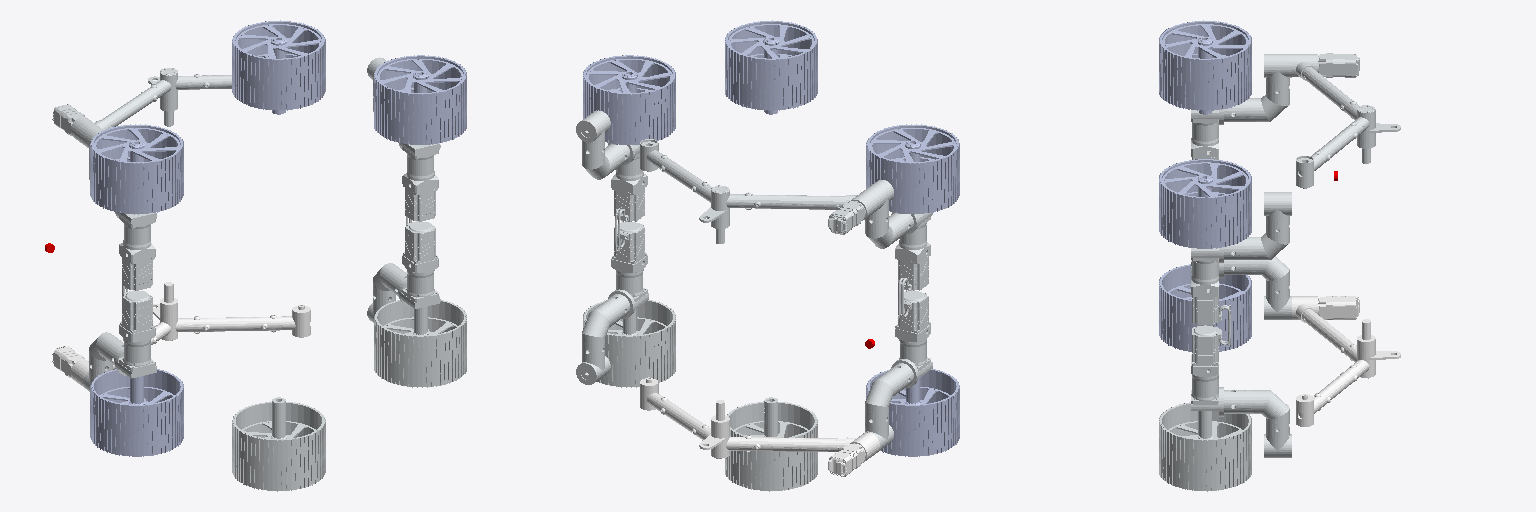
The robot description file, URDF, robot "ROVER 2025 MOVIL URDF":
<?xml version="1.0" encoding="utf-8"?>
<!-- This URDF was automatically created by SolidWorks to URDF Exporter! Originally created by [author] ([email redacted]) 
     Commit Version: 1.6.0-4-g7f85cfe  Build Version: 1.6.7995.38578
     For more information, please see http://wiki.ros.org/sw_urdf_exporter -->
<robot
  name="ROVER 2025 MOVIL URDF">
  <link
    name="Chasis">
    <inertial>
      <origin
        xyz="0.288438577723893 0.0109292123753549 6.7771748869416E-08"
        rpy="0 0 0" />
      <mass
        value="10" />
      <inertia
        ixx="0.0441193140560405"
        ixy="-2.21609953463795E-09"
        ixz="2.18954595758735E-08"
        iyy="0.0763142772480383"
        iyz="3.8337172520723E-09"
        izz="0.0335955150266498" />
    </inertial>
    <visual>
      <origin
        xyz="0 0 0"
        rpy="0 0 0" />
      <geometry>
        <mesh
          filename="package://ROVER 2025 MOVIL URDF/meshes/Chasis.STL" />
      </geometry>
      <material
        name="">
        <color
          rgba="0.752941176470588 0.752941176470588 0.752941176470588 1" />
      </material>
    </visual>
    <collision>
      <origin
        xyz="0 0 0"
        rpy="0 0 0" />
      <geometry>
        <mesh
          filename="package://ROVER 2025 MOVIL URDF/meshes/Chasis.STL" />
      </geometry>
    </collision>
  </link>
  <link
    name="Rocker_L">
    <inertial>
      <origin
        xyz="-0.016888 -0.050821 -0.015887"
        rpy="0 0 0" />
      <mass
        value="3.409" />
      <inertia
        ixx="0.0010374"
        ixy="-4.9666E-05"
        ixz="2.3834E-07"
        iyy="0.0013259"
        iyz="-2.2722E-06"
        izz="0.00088528" />
    </inertial>
    <visual>
      <origin
        xyz="0 0 0"
        rpy="0 0 0" />
      <geometry>
        <mesh
          filename="package://ROVER 2025 MOVIL URDF/meshes/Rocker_L.STL" />
      </geometry>
      <material
        name="">
        <color
          rgba="0.89804 0.91765 0.92941 1" />
      </material>
    </visual>
    <collision>
      <origin
        xyz="0 0 0"
        rpy="0 0 0" />
      <geometry>
        <mesh
          filename="package://ROVER 2025 MOVIL URDF/meshes/Rocker_L.STL" />
      </geometry>
    </collision>
  </link>
  <joint
    name="Joint_Rocker_L"
    type="revolute">
    <origin
      xyz="0.32185 0 0.2909"
      rpy="0 0 0" />
    <parent
      link="Chasis" />
    <child
      link="Rocker_L" />
    <axis
      xyz="0 0 1" />
    <limit
      lower="-0.5236"
      upper="0.5236"
      effort="0"
      velocity="0" />
    <dynamics
      damping="0.1"
      friction="0.1" />
  </joint>
  <link
    name="Bogie_L">
    <inertial>
      <origin
        xyz="-0.0473219934702857 -0.10000232458926 -0.0634980458171141"
        rpy="0 0 0" />
      <mass
        value="4.959" />
      <inertia
        ixx="0.000564122632607546"
        ixy="-8.72861092983669E-05"
        ixz="3.68546006648273E-05"
        iyy="0.000590209221392833"
        iyz="3.87241365468746E-06"
        izz="0.000709623220393141" />
    </inertial>
    <visual>
      <origin
        xyz="0 0 0"
        rpy="0 0 0" />
      <geometry>
        <mesh
          filename="package://ROVER 2025 MOVIL URDF/meshes/Bogie_L.STL" />
      </geometry>
      <material
        name="">
        <color
          rgba="0.792156862745098 0.819607843137255 0.933333333333333 1" />
      </material>
    </visual>
    <collision>
      <origin
        xyz="0 0 0"
        rpy="0 0 0" />
      <geometry>
        <mesh
          filename="package://ROVER 2025 MOVIL URDF/meshes/Bogie_L.STL" />
      </geometry>
    </collision>
  </link>
  <joint
    name="Joint_Bogie_L"
    type="revolute">
    <origin
      xyz="0.25166 -0.13101 0.065599"
      rpy="0 0 0" />
    <parent
      link="Rocker_L" />
    <child
      link="Bogie_L" />
    <axis
      xyz="0 0 1" />
    <limit
      lower="-0.5236"
      upper="0.5236"
      effort="0"
      velocity="0" />
    <dynamics
      damping="0.1"
      friction="0.1" />
  </joint>
  <link
    name="Rueda_Media_L">
    <inertial>
      <origin
        xyz="-1.41782538607416E-05 -5.28983833586461E-06 -0.0656774133963889"
        rpy="0 0 0" />
      <mass
        value="1.5" />
      <inertia
        ixx="0.00509456161848143"
        ixy="6.65100010201582E-08"
        ixz="2.22253980665638E-07"
        iyy="0.00509467286171472"
        iyz="5.23246354634947E-07"
        izz="0.00784566878914298" />
    </inertial>
    <visual>
      <origin
        xyz="0 0 0"
        rpy="0 0 0" />
      <geometry>
        <mesh
          filename="package://ROVER 2025 MOVIL URDF/meshes/Rueda_Media_L.STL" />
      </geometry>
      <material
        name="">
        <color
          rgba="0.792156862745098 0.819607843137255 0.933333333333333 1" />
      </material>
    </visual>
    <collision>
      <origin
        xyz="0 0 0"
        rpy="0 0 0" />
      <geometry>
        <mesh
          filename="package://ROVER 2025 MOVIL URDF/meshes/Rueda_Media_L.STL" />
      </geometry>
    </collision>
  </link>
  <joint
    name="Joint_Rueda_Media_L"
    type="continuous">
    <origin
      xyz="-0.17873 -0.213 0.1555"
      rpy="0 0 0" />
    <parent
      link="Bogie_L" />
    <child
      link="Rueda_Media_L" />
    <axis
      xyz="0 0 1" />
    <limit
      effort="20"
      velocity="1000" />
    <dynamics
      damping="0.1"
      friction="0.1" />
  </joint>
  <link
    name="Direccion_Trasera_L">
    <inertial>
      <origin
        xyz="-1.04384994870088E-06 -0.115237388246396 -0.11321511890596"
        rpy="0 0 0" />
      <mass
        value="3.25" />
      <inertia
        ixx="0.00140891940377472"
        ixy="3.16261705418916E-07"
        ixz="4.68544041473696E-08"
        iyy="0.000853513556309629"
        iyz="-0.000164942063511229"
        izz="0.00121518305852113" />
    </inertial>
    <visual>
      <origin
        xyz="0 0 0"
        rpy="0 0 0" />
      <geometry>
        <mesh
          filename="package://ROVER 2025 MOVIL URDF/meshes/Direccion_Trasera_L.STL" />
      </geometry>
      <material
        name="">
        <color
          rgba="0.898039215686275 0.917647058823529 0.929411764705882 1" />
      </material>
    </visual>
    <collision>
      <origin
        xyz="0 0 0"
        rpy="0 0 0" />
      <geometry>
        <mesh
          filename="package://ROVER 2025 MOVIL URDF/meshes/Direccion_Trasera_L.STL" />
      </geometry>
    </collision>
  </link>
  <joint
    name="Joint_Direccion_Trasera_L"
    type="revolute">
    <origin
      xyz="0.17127 -0.0315 -0.070565"
      rpy="0 0 0" />
    <parent
      link="Bogie_L" />
    <child
      link="Direccion_Trasera_L" />
    <axis
      xyz="0 1 0" />
    <limit
      lower="-1.5708"
      upper="1.5708"
      effort="10"
      velocity="1000" />
    <dynamics
      damping="0.1"
      friction="0.1" />
  </joint>
  <link
    name="Rueda_Trasera_L">
    <inertial>
      <origin
        xyz="-7.46093003556325E-06 -1.31658571650428E-05 -0.0656774133963628"
        rpy="0 0 0" />
      <mass
        value="1.5" />
      <inertia
        ixx="0.00509454208194118"
        ixy="-4.32272588143068E-08"
        ixz="-1.6607984674026E-07"
        iyy="0.00509469239825523"
        iyz="5.43692067157363E-07"
        izz="0.00784566878914282" />
    </inertial>
    <visual>
      <origin
        xyz="0 0 0"
        rpy="0 0 0" />
      <geometry>
        <mesh
          filename="package://ROVER 2025 MOVIL URDF/meshes/Rueda_Trasera_L.STL" />
      </geometry>
      <material
        name="">
        <color
          rgba="0.792156862745098 0.819607843137255 0.933333333333333 1" />
      </material>
    </visual>
    <collision>
      <origin
        xyz="0 0 0"
        rpy="0 0 0" />
      <geometry>
        <mesh
          filename="package://ROVER 2025 MOVIL URDF/meshes/Rueda_Trasera_L.STL" />
      </geometry>
    </collision>
  </link>
  <joint
    name="Joint_Rueda_Trasera_L"
    type="continuous">
    <origin
      xyz="0 -0.1815 0.063"
      rpy="0 0 0" />
    <parent
      link="Direccion_Trasera_L" />
    <child
      link="Rueda_Trasera_L" />
    <axis
      xyz="0 0 1" />
    <limit
      effort="20"
      velocity="1000" />
    <dynamics
      damping="0.1"
      friction="0.1" />
  </joint>
  <link
    name="Direccion_Delantera_L">
    <inertial>
      <origin
        xyz="-1.04384994838169E-06 -0.115237388246396 -0.11321511890596"
        rpy="0 0 0" />
      <mass
        value="3.25" />
      <inertia
        ixx="0.00140891940377473"
        ixy="3.16261705418385E-07"
        ixz="4.68544041469804E-08"
        iyy="0.000853513556309632"
        iyz="-0.00016494206351123"
        izz="0.00121518305852114" />
    </inertial>
    <visual>
      <origin
        xyz="0 0 0"
        rpy="0 0 0" />
      <geometry>
        <mesh
          filename="package://ROVER 2025 MOVIL URDF/meshes/Direccion_Delantera_L.STL" />
      </geometry>
      <material
        name="">
        <color
          rgba="0.898039215686275 0.917647058823529 0.929411764705882 1" />
      </material>
    </visual>
    <collision>
      <origin
        xyz="0 0 0"
        rpy="0 0 0" />
      <geometry>
        <mesh
          filename="package://ROVER 2025 MOVIL URDF/meshes/Direccion_Delantera_L.STL" />
      </geometry>
    </collision>
  </link>
  <joint
    name="Joint_Direccion_Delantera_L"
    type="revolute">
    <origin
      xyz="-0.27706 -0.16251 -0.0049008"
      rpy="0 0 0" />
    <parent
      link="Rocker_L" />
    <child
      link="Direccion_Delantera_L" />
    <axis
      xyz="0 1 0" />
    <limit
      lower="-1.5708"
      upper="1.5708"
      effort="10"
      velocity="1000" />
    <dynamics
      damping="0.1"
      friction="0.1" />
  </joint>
  <link
    name="Rueda_Delantera_L">
    <inertial>
      <origin
        xyz="-7.46093003538978E-06 -1.31658571647097E-05 -0.0656774133963627"
        rpy="0 0 0" />
      <mass
        value="1.5" />
      <inertia
        ixx="0.00509454208194127"
        ixy="-4.32272588315615E-08"
        ixz="-1.66079846734122E-07"
        iyy="0.00509469239825524"
        iyz="5.43692067162731E-07"
        izz="0.00784566878914289" />
    </inertial>
    <visual>
      <origin
        xyz="0 0 0"
        rpy="0 0 0" />
      <geometry>
        <mesh
          filename="package://ROVER 2025 MOVIL URDF/meshes/Rueda_Delantera_L.STL" />
      </geometry>
      <material
        name="">
        <color
          rgba="0.792156862745098 0.819607843137255 0.933333333333333 1" />
      </material>
    </visual>
    <collision>
      <origin
        xyz="0 0 0"
        rpy="0 0 0" />
      <geometry>
        <mesh
          filename="package://ROVER 2025 MOVIL URDF/meshes/Rueda_Delantera_L.STL" />
      </geometry>
    </collision>
  </link>
  <joint
    name="Joint_Rueda_Delantera_L"
    type="continuous">
    <origin
      xyz="0 -0.1815 0.063"
      rpy="0 0 0" />
    <parent
      link="Direccion_Delantera_L" />
    <child
      link="Rueda_Delantera_L" />
    <axis
      xyz="0 0 1" />
    <limit
      lower="-1.5708"
      upper="1.5708"
      effort="20"
      velocity="1000" />
    <dynamics
      damping="0.1"
      friction="0.1" />
  </joint>
  <link
    name="Rocker_R">
    <inertial>
      <origin
        xyz="0 0 0"
        rpy="0 0 0" />
      <mass
        value="3.409" />
      <inertia
        ixx="0"
        ixy="0"
        ixz="0"
        iyy="0"
        iyz="0"
        izz="0" />
    </inertial>
    <visual>
      <origin
        xyz="0 0 0"
        rpy="0 0 0" />
      <geometry>
        <mesh
          filename="package://ROVER 2025 MOVIL URDF/meshes/Rocker_R.STL" />
      </geometry>
      <material
        name="">
        <color
          rgba="1 1 1 1" />
      </material>
    </visual>
    <collision>
      <origin
        xyz="0 0 0"
        rpy="0 0 0" />
      <geometry>
        <mesh
          filename="package://ROVER 2025 MOVIL URDF/meshes/Rocker_R.STL" />
      </geometry>
    </collision>
  </link>
  <joint
    name="Joint_Rocker_R"
    type="revolute">
    <origin
      xyz="0.32185 0 -0.2909"
      rpy="0 0 0" />
    <parent
      link="Chasis" />
    <child
      link="Rocker_R" />
    <axis
      xyz="0 0 1" />
    <limit
      lower="-0.5236"
      upper="0.5236"
      effort="0"
      velocity="0" />
    <dynamics
      damping="0.1"
      friction="0.1" />
  </joint>
  <link
    name="Bogie_R">
    <inertial>
      <origin
        xyz="-0.047765 -0.10063 0.064313"
        rpy="0 0 0" />
      <mass
        value="4.959" />
      <inertia
        ixx="0.0005334"
        ixy="-6.6107E-05"
        ixz="-3.4349E-05"
        iyy="0.00056043"
        iyz="-3.8724E-06"
        izz="0.00065556" />
    </inertial>
    <visual>
      <origin
        xyz="0 0 0"
        rpy="0 0 0" />
      <geometry>
        <mesh
          filename="package://ROVER 2025 MOVIL URDF/meshes/Bogie_R.STL" />
      </geometry>
      <material
        name="">
        <color
          rgba="0.79216 0.81961 0.93333 1" />
      </material>
    </visual>
    <collision>
      <origin
        xyz="0 0 0"
        rpy="0 0 0" />
      <geometry>
        <mesh
          filename="package://ROVER 2025 MOVIL URDF/meshes/Bogie_R.STL" />
      </geometry>
    </collision>
  </link>
  <joint
    name="Joint_Bogie_R"
    type="revolute">
    <origin
      xyz="0.25166 -0.13101 -0.065599"
      rpy="0 0 0" />
    <parent
      link="Rocker_R" />
    <child
      link="Bogie_R" />
    <axis
      xyz="0 0 1" />
    <limit
      lower="-0.5236"
      upper="0.5236"
      effort="0"
      velocity="0" />
    <dynamics
      damping="0.1"
      friction="0.1" />
  </joint>
  <link
    name="Rueda_Media_R">
    <inertial>
      <origin
        xyz="-1.41771139818281E-05 -5.29137608606955E-06 0.0656821054863143"
        rpy="0 0 0" />
      <mass
        value="1.5" />
      <inertia
        ixx="0.00509456185644659"
        ixy="6.64573397514058E-08"
        ixz="-2.22220630402095E-07"
        iyy="0.00509467313273941"
        iyz="-5.23321704678963E-07"
        izz="0.00784566880527025" />
    </inertial>
    <visual>
      <origin
        xyz="0 0 0"
        rpy="0 0 0" />
      <geometry>
        <mesh
          filename="package://ROVER 2025 MOVIL URDF/meshes/Rueda_Media_R.STL" />
      </geometry>
      <material
        name="">
        <color
          rgba="0.898039215686275 0.917647058823529 0.929411764705882 1" />
      </material>
    </visual>
    <collision>
      <origin
        xyz="0 0 0"
        rpy="0 0 0" />
      <geometry>
        <mesh
          filename="package://ROVER 2025 MOVIL URDF/meshes/Rueda_Media_R.STL" />
      </geometry>
    </collision>
  </link>
  <joint
    name="Joint_Rueda_Media_R"
    type="continuous">
    <origin
      xyz="-0.17873 -0.213 -0.1555"
      rpy="0 0 0" />
    <parent
      link="Bogie_R" />
    <child
      link="Rueda_Media_R" />
    <axis
      xyz="0 0 1" />
    <limit
      lower="0"
      upper="0"
      effort="20"
      velocity="1000" />
    <dynamics
      damping="0.1"
      friction="0.1" />
  </joint>
  <link
    name="Direccion_Trasera_R">
    <inertial>
      <origin
        xyz="-1.4183369628773E-06 -0.115237370236861 0.113215114964309"
        rpy="0 0 0" />
      <mass
        value="3.25" />
      <inertia
        ixx="0.00140891975002138"
        ixy="3.1699945700244E-07"
        ixz="-4.74293620196165E-08"
        iyy="0.000853514136619031"
        iyz="0.000164942038379824"
        izz="0.00121518320306354" />
    </inertial>
    <visual>
      <origin
        xyz="0 0 0"
        rpy="0 0 0" />
      <geometry>
        <mesh
          filename="package://ROVER 2025 MOVIL URDF/meshes/Direccion_Trasera_R.STL" />
      </geometry>
      <material
        name="">
        <color
          rgba="0.898039215686275 0.917647058823529 0.929411764705882 1" />
      </material>
    </visual>
    <collision>
      <origin
        xyz="0 0 0"
        rpy="0 0 0" />
      <geometry>
        <mesh
          filename="package://ROVER 2025 MOVIL URDF/meshes/Direccion_Trasera_R.STL" />
      </geometry>
    </collision>
  </link>
  <joint
    name="Joint_Direccion_Trasera_R"
    type="revolute">
    <origin
      xyz="0.17127 -0.0315 0.070565"
      rpy="0 0 0" />
    <parent
      link="Bogie_R" />
    <child
      link="Direccion_Trasera_R" />
    <axis
      xyz="0 1 0" />
    <limit
      lower="-1.5708"
      upper="1.5708"
      effort="10"
      velocity="1000" />
    <dynamics
      damping="0.1"
      friction="0.1" />
  </joint>
  <link
    name="Rueda_Trasera_R">
    <inertial>
      <origin
        xyz="-7.45906839494381E-06 -1.31663024416917E-05 0.0656821054862859"
        rpy="0 0 0" />
      <mass
        value="1.5" />
      <inertia
        ixx="0.00509454238542716"
        ixy="-4.32526822157421E-08"
        ixz="1.66153828608011E-07"
        iyy="0.00509469260375968"
        iyz="-5.43728351436261E-07"
        izz="0.00784566880527031" />
    </inertial>
    <visual>
      <origin
        xyz="0 0 0"
        rpy="0 0 0" />
      <geometry>
        <mesh
          filename="package://ROVER 2025 MOVIL URDF/meshes/Rueda_Trasera_R.STL" />
      </geometry>
      <material
        name="">
        <color
          rgba="0.898039215686275 0.917647058823529 0.929411764705882 1" />
      </material>
    </visual>
    <collision>
      <origin
        xyz="0 0 0"
        rpy="0 0 0" />
      <geometry>
        <mesh
          filename="package://ROVER 2025 MOVIL URDF/meshes/Rueda_Trasera_R.STL" />
      </geometry>
    </collision>
  </link>
  <joint
    name="Joint_Rueda_Trasera_R"
    type="continuous">
    <origin
      xyz="0 -0.1815 -0.063"
      rpy="0 0 0" />
    <parent
      link="Direccion_Trasera_R" />
    <child
      link="Rueda_Trasera_R" />
    <axis
      xyz="0 0 1" />
    <limit
      effort="20"
      velocity="1000" />
    <dynamics
      damping="0.1"
      friction="0.1" />
  </joint>
  <link
    name="Direccion_Delantera_R">
    <inertial>
      <origin
        xyz="-1.4183369623777E-06 -0.115237370236861 0.11321511496431"
        rpy="0 0 0" />
      <mass
        value="3.25" />
      <inertia
        ixx="0.00140891975002136"
        ixy="3.16999457002059E-07"
        ixz="-4.74293620188041E-08"
        iyy="0.000853514136619024"
        iyz="0.00016494203837982"
        izz="0.00121518320306352" />
    </inertial>
    <visual>
      <origin
        xyz="0 0 0"
        rpy="0 0 0" />
      <geometry>
        <mesh
          filename="package://ROVER 2025 MOVIL URDF/meshes/Direccion_Delantera_R.STL" />
      </geometry>
      <material
        name="">
        <color
          rgba="0.898039215686275 0.917647058823529 0.929411764705882 1" />
      </material>
    </visual>
    <collision>
      <origin
        xyz="0 0 0"
        rpy="0 0 0" />
      <geometry>
        <mesh
          filename="package://ROVER 2025 MOVIL URDF/meshes/Direccion_Delantera_R.STL" />
      </geometry>
    </collision>
  </link>
  <joint
    name="Joint_Direccion_Delantera_R"
    type="revolute">
    <origin
      xyz="-0.27706 -0.16251 0.0049008"
      rpy="0 0 0" />
    <parent
      link="Rocker_R" />
    <child
      link="Direccion_Delantera_R" />
    <axis
      xyz="0 1 0" />
    <limit
      lower="-1.5708"
      upper="1.5708"
      effort="10"
      velocity="1000" />
    <dynamics
      damping="0.1"
      friction="0.1" />
  </joint>
  <link
    name="Rueda_Delantera_R">
    <inertial>
      <origin
        xyz="-7.45906839449972E-06 -1.31663024435791E-05 0.0656821054862848"
        rpy="0 0 0" />
      <mass
        value="1.5" />
      <inertia
        ixx="0.00509454238542721"
        ixy="-4.32526822051539E-08"
        ixz="1.66153828614882E-07"
        iyy="0.00509469260375968"
        iyz="-5.43728351457097E-07"
        izz="0.00784566880527035" />
    </inertial>
    <visual>
      <origin
        xyz="0 0 0"
        rpy="0 0 0" />
      <geometry>
        <mesh
          filename="package://ROVER 2025 MOVIL URDF/meshes/Rueda_Delantera_R.STL" />
      </geometry>
      <material
        name="">
        <color
          rgba="0.792156862745098 0.819607843137255 0.933333333333333 1" />
      </material>
    </visual>
    <collision>
      <origin
        xyz="0 0 0"
        rpy="0 0 0" />
      <geometry>
        <mesh
          filename="package://ROVER 2025 MOVIL URDF/meshes/Rueda_Delantera_R.STL" />
      </geometry>
    </collision>
  </link>
  <joint
    name="Joint_Rueda_Delantera_R"
    type="continuous">
    <origin
      xyz="0 -0.1815 -0.063"
      rpy="0 0 0" />
    <parent
      link="Direccion_Delantera_R" />
    <child
      link="Rueda_Delantera_R" />
    <axis
      xyz="0 0 1" />
    <limit
      effort="20"
      velocity="1000" />
    <dynamics
      damping="0.1"
      friction="0.1" />
  </joint>
  
  <!-- Link del LIDAR -->
  <link name="lidar_link">
    <visual>
      <geometry>
        <cylinder radius="0.01" length="0.01"/>
      </geometry>
      <origin xyz="0 0 0" rpy="0 0 0"/>
      <material name="red">
        <color rgba="1 0 0 1"/>
      </material>
    </visual>
    <collision>
      <geometry>
        <cylinder radius="0.05" length="0.1"/>
      </geometry>
      <origin xyz="0 0 0" rpy="0 0 0"/>
    </collision>
    <inertial>
      <mass value="0.1"/>
      <inertia ixx="0.001" iyy="0.001" izz="0.001"/>
    </inertial>
  </link>

  <!-- Joint que conecta el LIDAR al chasis -->
  <joint name="lidar_joint" type="fixed">
    <parent link="Chasis"/>
    <child link="lidar_link"/>
    <origin xyz="-0.01 -0.065 0" rpy="1.5708 0 0"/> <!-- altura del LIDAR -->
  </joint>
</robot>

--- Render facts (derived) ---
The picture shows the robot from 3 angles, left to right: view 1: azimuth 30°, elevation 25°; view 2: azimuth 150°, elevation 25°; view 3: azimuth 270°, elevation 25°; orthographic projection.
Robot: ROVER 2025 MOVIL URDF — 16 links, 15 joints (8 revolute, 6 continuous, 1 fixed); root link Chasis; default pose: all joints at 0.
Visible links, largest first — view 1: Rueda_Media_L, Rueda_Media_R, Rueda_Delantera_L, Rueda_Trasera_L, Rueda_Delantera_R, Rueda_Trasera_R, Rocker_R, Direccion_Delantera_R, Direccion_Trasera_R, Rocker_L, Direccion_Trasera_L, Direccion_Delantera_L; view 2: Rueda_Media_L, Rueda_Delantera_L, Rueda_Trasera_L, Rueda_Media_R, Rocker_L, Rocker_R, Rueda_Delantera_R, Rueda_Trasera_R, Direccion_Trasera_R, Direccion_Delantera_R, Direccion_Trasera_L, Direccion_Delantera_L; view 3: Rueda_Media_L, Rueda_Trasera_L, Rueda_Trasera_R, Direccion_Trasera_R, Rocker_R, Rocker_L, Rueda_Delantera_R, Direccion_Trasera_L, Direccion_Delantera_L, Direccion_Delantera_R.
Link boxes in pixels (<box>): Rueda_Media_L: <box>232,20,325,114</box>; Rueda_Media_R: <box>232,397,325,491</box>; Rueda_Delantera_L: <box>90,124,183,214</box>; Rueda_Trasera_L: <box>374,55,466,144</box>; Rueda_Delantera_R: <box>90,369,183,456</box>; Rueda_Trasera_R: <box>374,300,466,387</box>; Rocker_R: <box>52,282,310,388</box>; Direccion_Delantera_R: <box>84,285,156,391</box>; Direccion_Trasera_R: <box>367,216,440,322</box>; Rocker_L: <box>52,68,231,144</box>; Direccion_Trasera_L: <box>367,57,440,221</box>; Direccion_Delantera_L: <box>84,127,156,290</box>; Rueda_Media_L: <box>725,20,817,114</box>; Rueda_Delantera_L: <box>866,124,959,214</box>; Rueda_Trasera_L: <box>583,55,675,144</box>; Rueda_Media_R: <box>725,397,817,491</box>; Rocker_L: <box>640,139,879,243</box>; Rocker_R: <box>640,377,879,476</box>; Rueda_Delantera_R: <box>866,369,959,456</box>; Rueda_Trasera_R: <box>583,300,675,387</box>; Direccion_Trasera_R: <box>576,209,648,384</box>; Direccion_Delantera_R: <box>863,279,932,452</box>; Direccion_Trasera_L: <box>576,110,647,250</box>; Direccion_Delantera_L: <box>864,180,932,319</box>; Rueda_Media_L: <box>1159,21,1251,114</box>; Rueda_Trasera_L: <box>1159,159,1251,248</box>; Rueda_Trasera_R: <box>1159,402,1251,491</box>; Direccion_Trasera_R: <box>1191,305,1291,457</box>; Rocker_R: <box>1292,296,1400,426</box>; Rocker_L: <box>1292,53,1400,188</box>; Rueda_Delantera_R: <box>1159,264,1251,351</box>; Direccion_Trasera_L: <box>1191,192,1291,346</box>; Direccion_Delantera_L: <box>1191,54,1291,159</box>; Direccion_Delantera_R: <box>1191,256,1291,319</box>.
Size in the robot's own frame: 0.9 by 0.5189 by 1.02 metres.
Meshes: 15 distinct files referenced, 12 mesh visuals loaded (12 binary STL); not drawn: 3 (reference not matched to a file when rendering).
